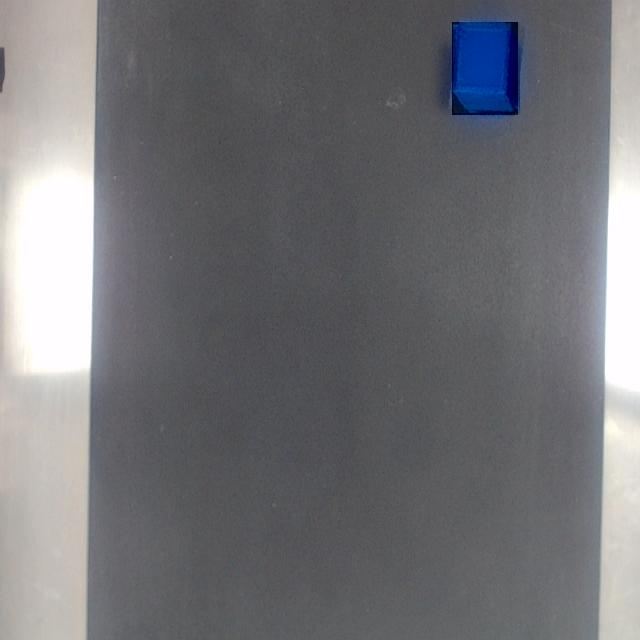Azul: (452, 23, 518, 115)
